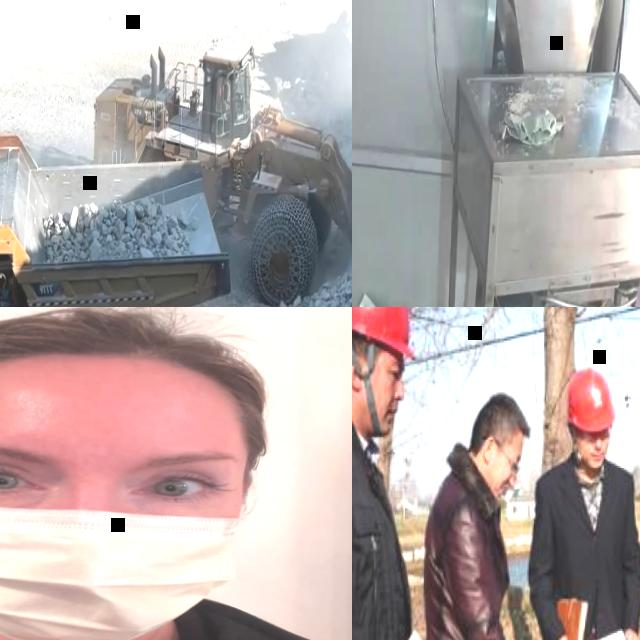Hardhat: (352, 307, 419, 360), (564, 367, 616, 434)
Mask: (0, 450, 254, 640)
NO-Hardhat: (0, 307, 264, 419), (476, 393, 532, 435)
NO-Mask: (352, 373, 398, 439), (484, 457, 510, 501), (578, 447, 606, 473)
NO-Safety Vest: (544, 471, 627, 640), (422, 489, 501, 640), (352, 431, 405, 640)
Person: (0, 307, 352, 640), (420, 388, 560, 640), (521, 363, 640, 640), (352, 307, 424, 640), (555, 0, 640, 145)
vehicle: (82, 30, 352, 307), (0, 123, 234, 307)
